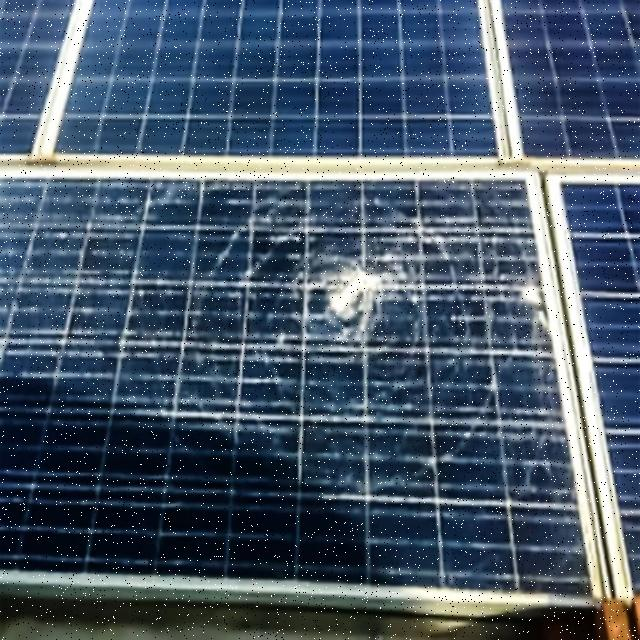physical damage: (176, 179, 433, 432)
